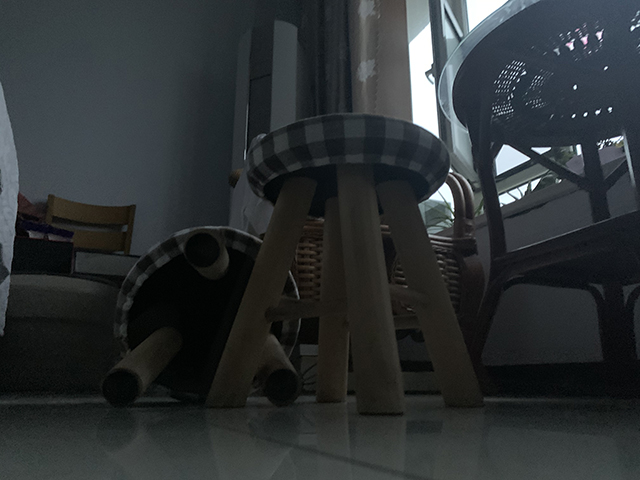stool: (204, 111, 485, 417), (100, 223, 305, 410)
table: (436, 1, 640, 403)
